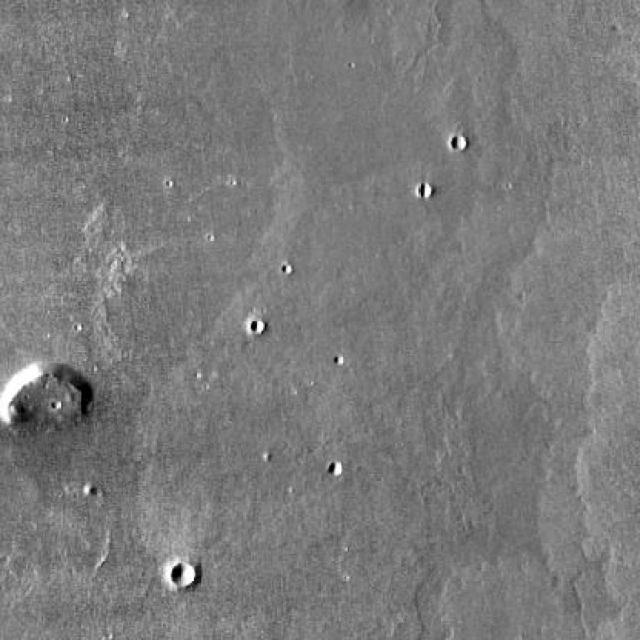crater: (174, 563, 197, 586), (450, 132, 467, 150), (250, 319, 265, 333), (421, 184, 433, 198)
